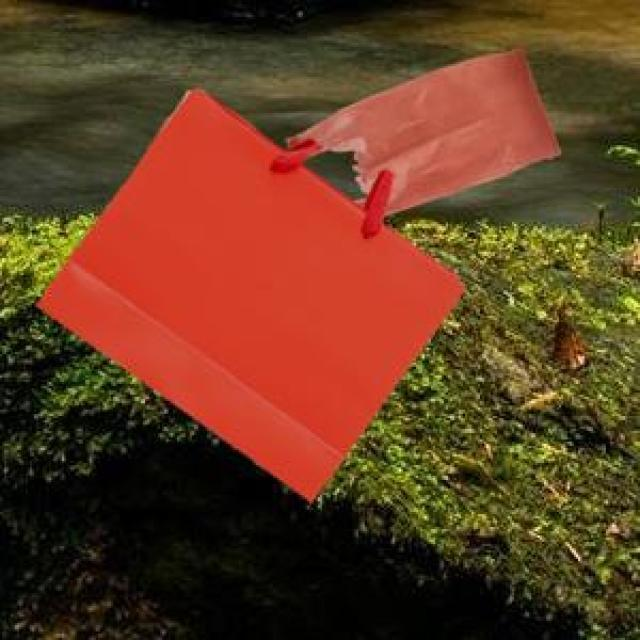paper: (32, 85, 461, 497)
